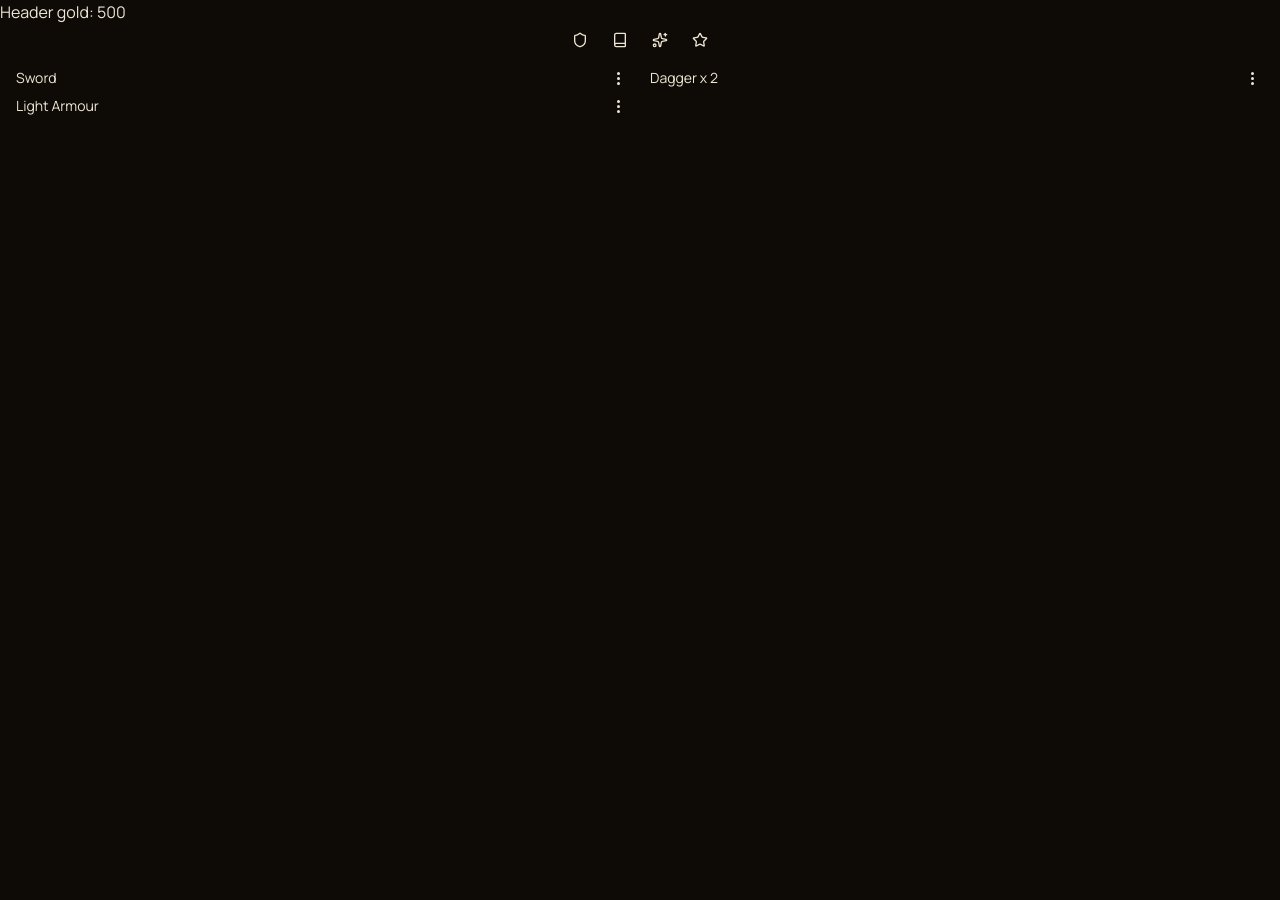
unit item menu: Buy again › buys another copy for another player's hero, on his warband (BUG-107)
The width and height of the screenshot is (1280, 900).
Click the button named "Actions for Dagger x 2". click: (1252, 78)
box: top-left (1244, 68), bottom-right (1260, 88)
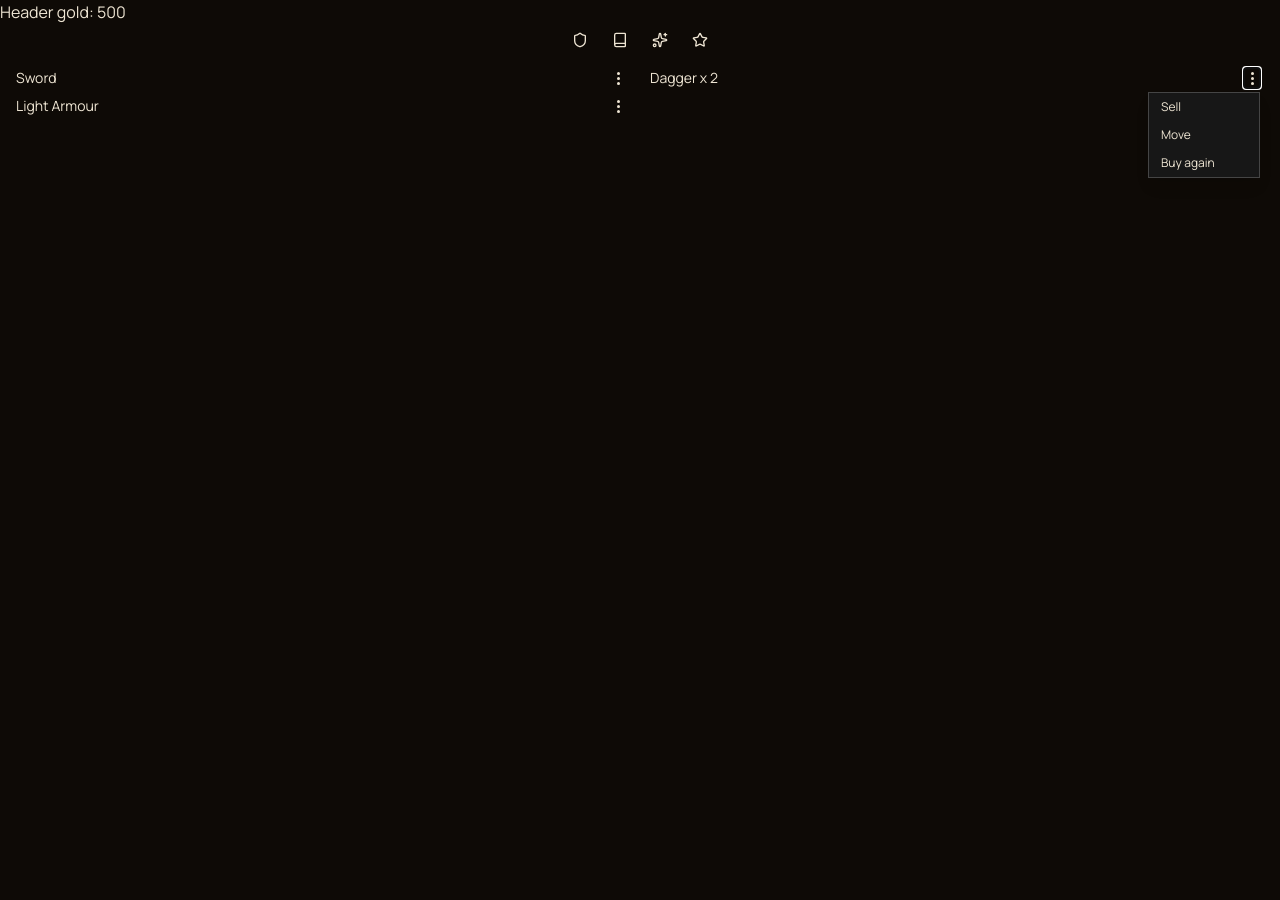
Click the button "Buy again". click: (1204, 163)
box: top-left (1149, 149), bottom-right (1259, 177)
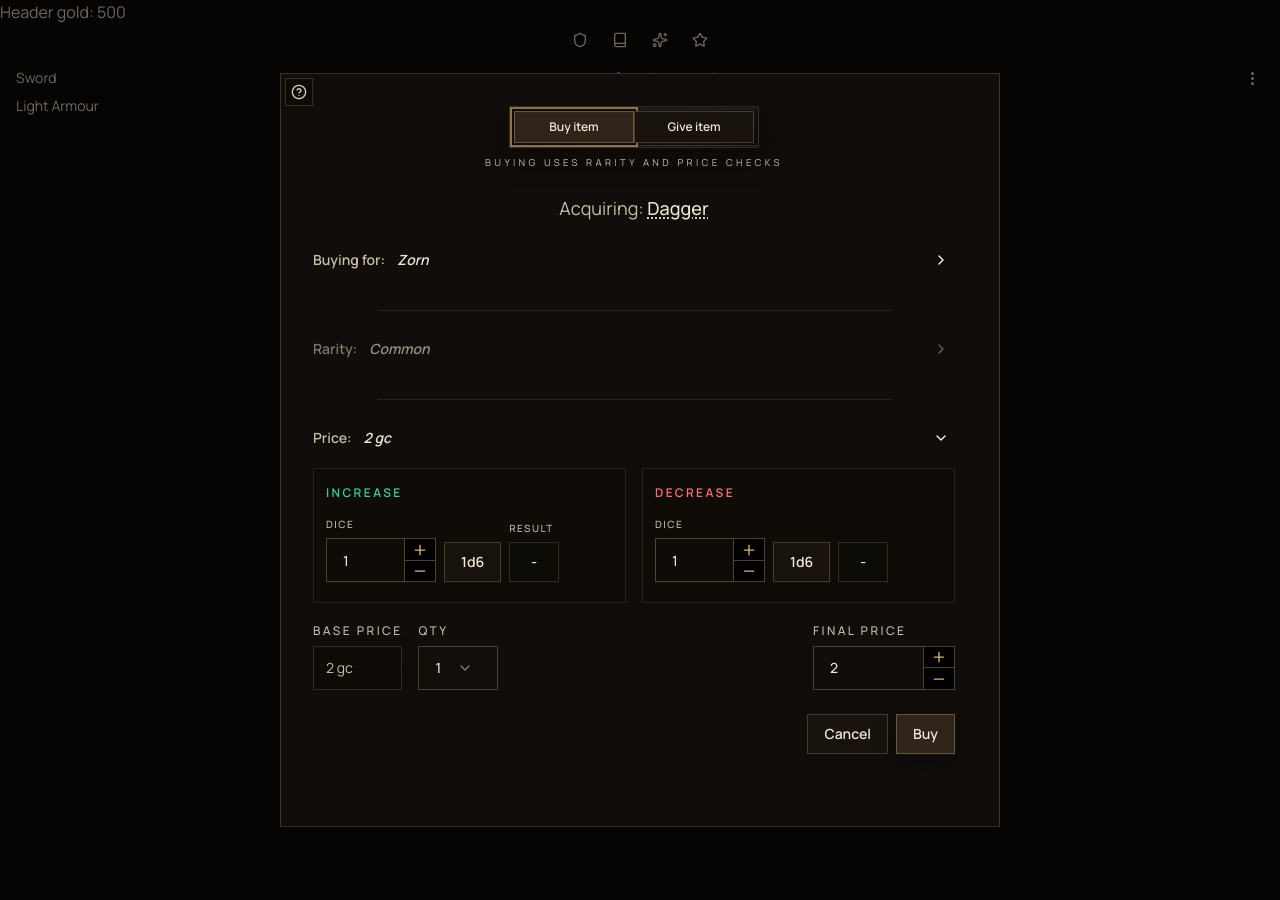
Check: the button "Buy" is enabled
Click the button "Buy". click: (926, 734)
box: top-left (896, 714), bottom-right (955, 754)
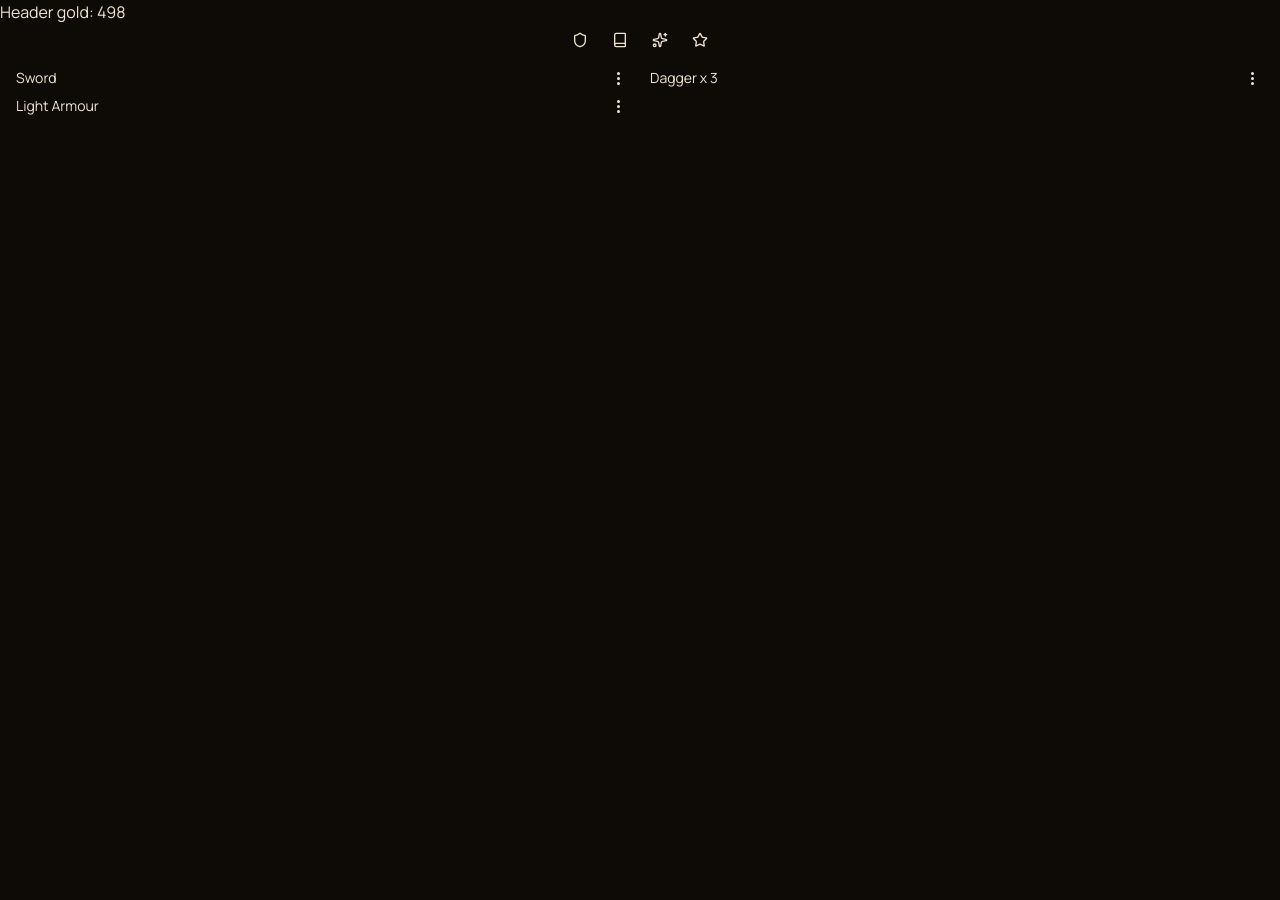
Check: the button "Dagger x 3" is shown, box top-left (650, 68), bottom-right (1240, 88)
Check: the text "Header gold: 498" is shown, box top-left (0, 1), bottom-right (126, 23)
